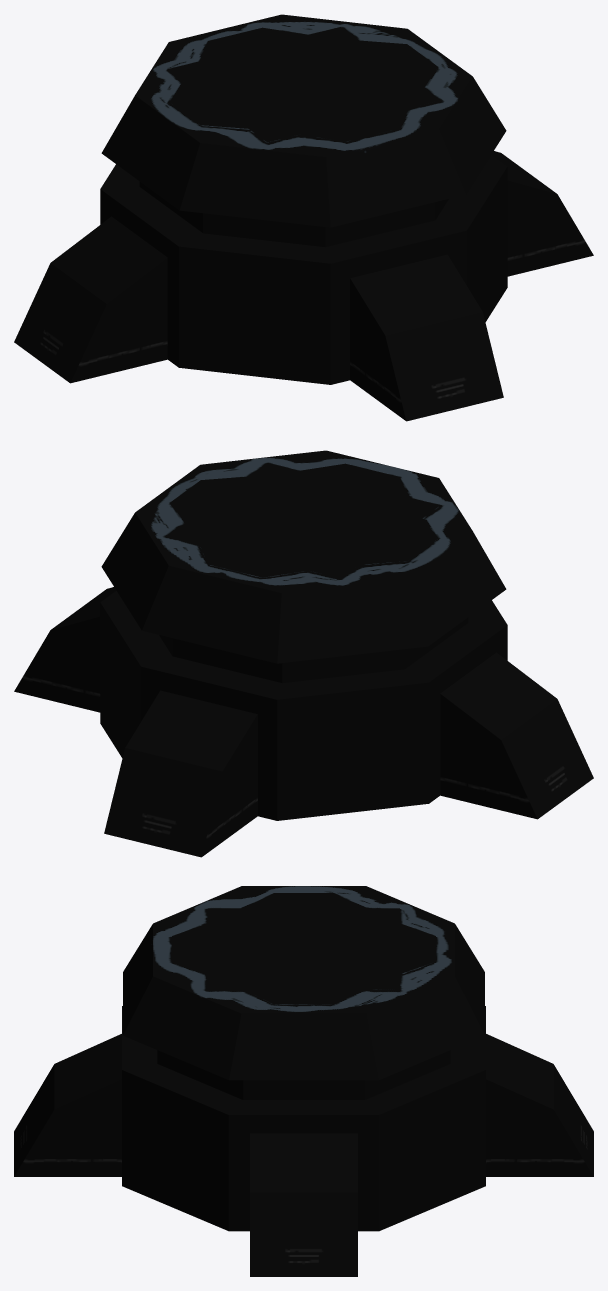
File: hologramprojector.gltf
3 renders of one model, top to bottom at view 1: azimuth 30°, elevation 25°; view 2: azimuth 150°, elevation 25°; view 3: azimuth 270°, elevation 25°, orthographic. The views are drawn at different scales.
Parts seen in each view (by area): view 1: TopPart, Base, AR_Target, side_Parts.001, side_Parts, side_Parts.002, MiddleSection; view 2: TopPart, Base, AR_Target, side_Parts.003, side_Parts, side_Parts.002, MiddleSection; view 3: Base, TopPart, AR_Target, side_Parts.002, side_Parts.001, side_Parts.003, MiddleSection.
Part boxes in pixels (x1,y1,x2,y2): TopPart: (101,14,506,227); Base: (100,154,507,384); AR_Target: (167,27,440,142); side_Parts.001: (350,254,503,421); side_Parts: (14,216,167,383); side_Parts.002: (491,151,593,276); MiddleSection: (139,181,448,246); TopPart: (101,450,506,663); Base: (100,590,507,820); AR_Target: (167,463,440,578); side_Parts.003: (104,690,257,857); side_Parts: (440,652,593,819); side_Parts.002: (14,587,116,712); MiddleSection: (159,617,468,682); Base: (122,1006,485,1231); TopPart: (123,886,484,1080); AR_Target: (172,893,435,1004); side_Parts.002: (250,1133,357,1276); side_Parts.001: (14,1034,121,1176); side_Parts.003: (486,1034,593,1176); MiddleSection: (157,1050,450,1099).
Bounding box in the file's own units: 2.94 × 1.15 × 2.94.
Materials: 1 (1 with a texture image).
